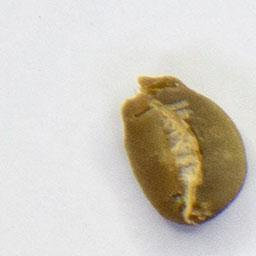defect: (120, 73, 249, 228)
